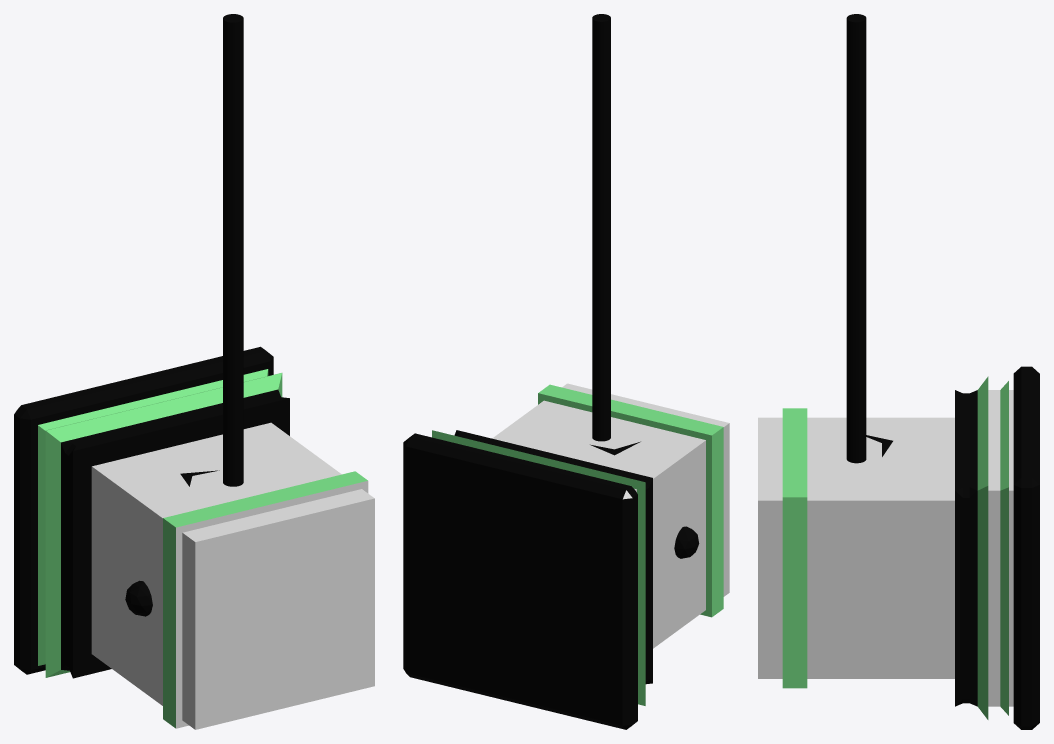
File: hammer2.dae
3 views of the same model, side by side, from view 1: azimuth 30°, elevation 25°; view 2: azimuth 150°, elevation 25°; view 3: azimuth 270°, elevation 25° (orthographic). The views are drawn at different scales.
Parts seen in each view (by area): view 1: Cube; view 2: Cube; view 3: Cube.
Part boxes in pixels (<box>): Cube: <box>14,14,374,729</box>; Cube: <box>403,14,729,729</box>; Cube: <box>758,14,1039,729</box>.
Size of the model in its own units: 2.83 by 2.86 by 7.36.
